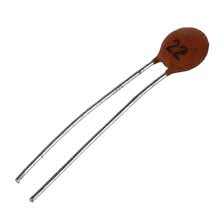ceramic capacitor: (113, 5, 224, 112)
